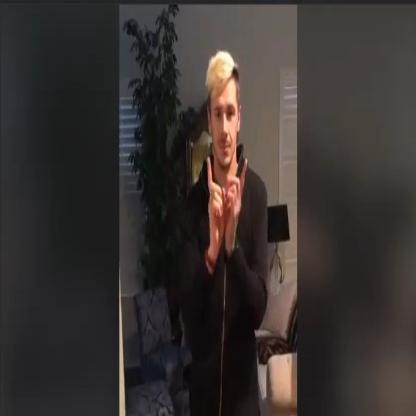NiceToMeetYou: (200, 151, 254, 247)
